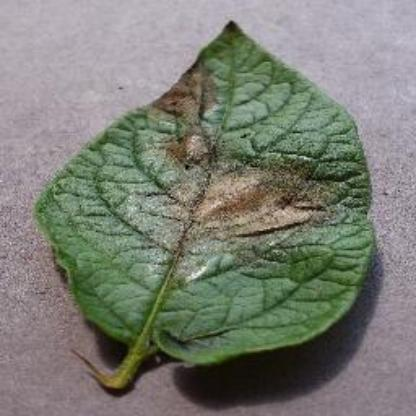Late-Blight: (23, 17, 395, 405)
